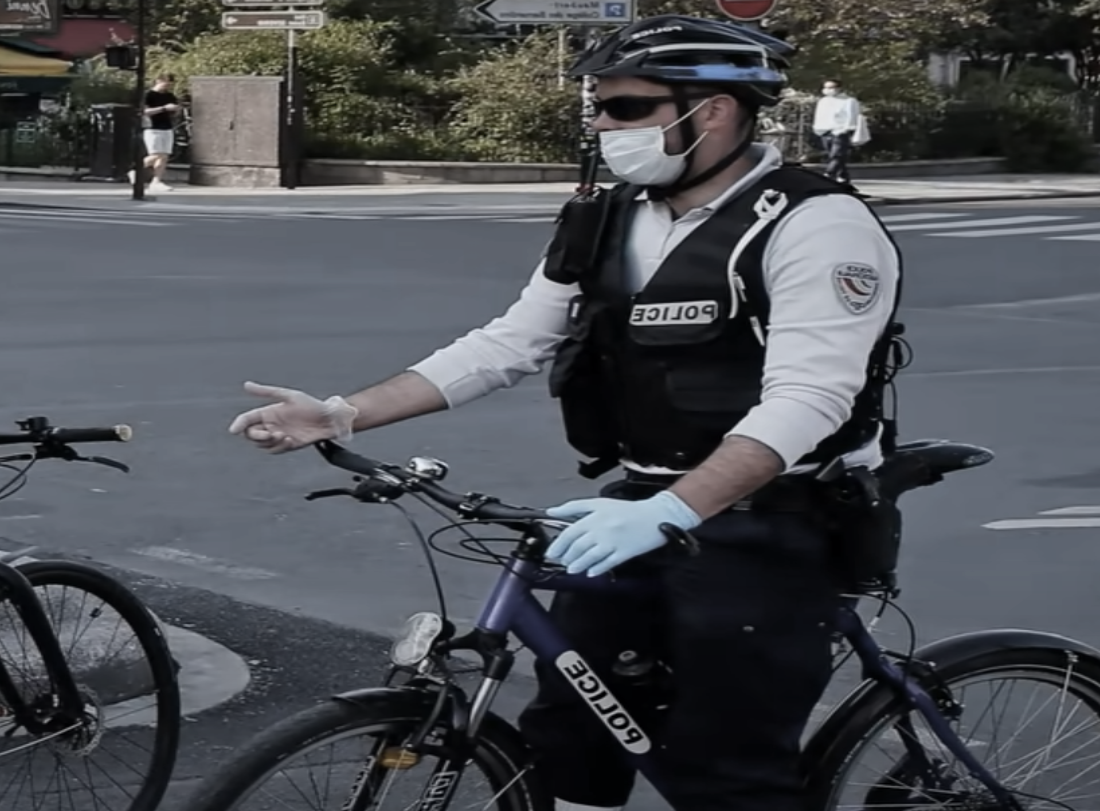mask_weared_incorrect: (582, 22, 775, 196)
